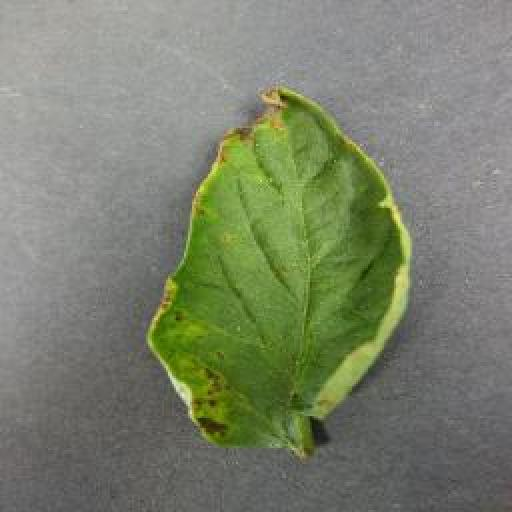Bacterial Spot: (146, 81, 414, 455)
